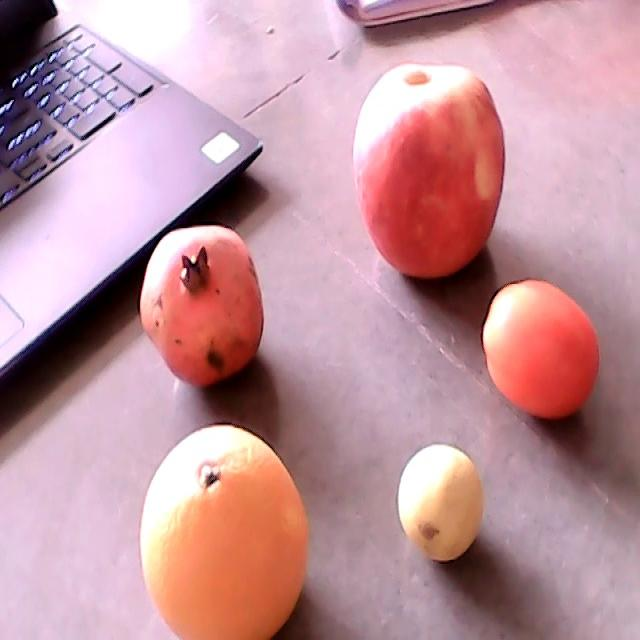apple: (353, 66, 506, 278)
lemon: (397, 443, 484, 564)
orange: (138, 427, 311, 639)
pomegranate: (139, 227, 265, 388)
tomato: (484, 277, 599, 416)
